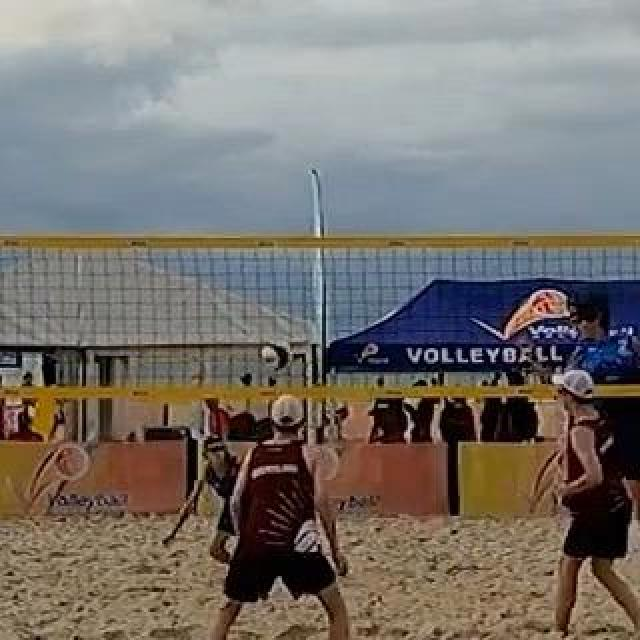volleyball: (261, 340, 293, 370)
